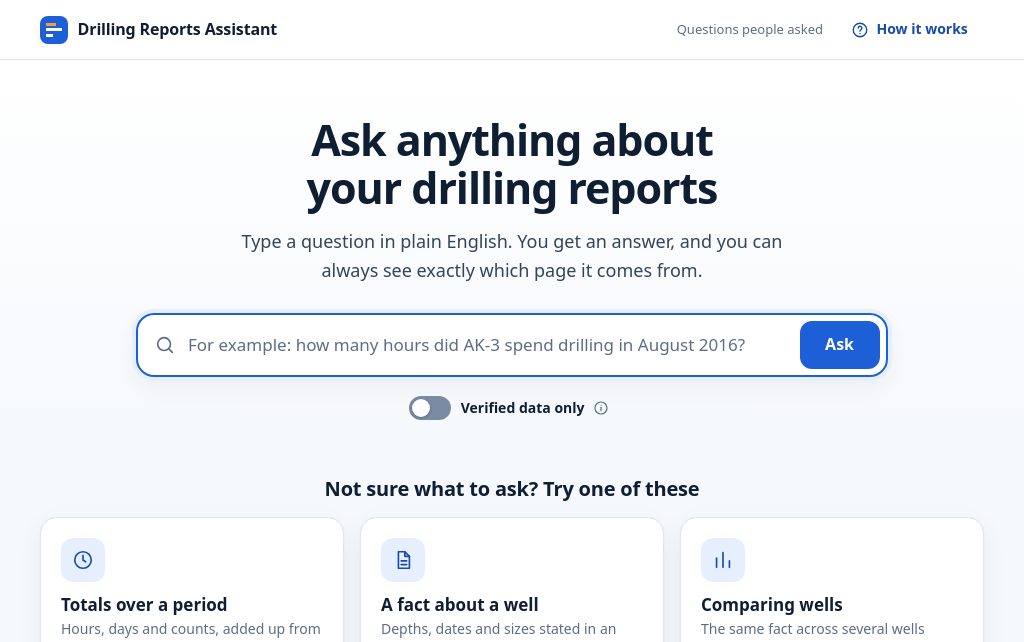
waiting for an answer › can be stopped: the question goes back into the box, and a late answer is not shown
Type "How many hours of non-productive time did AK-3 have?" into the field named "Ask about the reports".
click(488, 345); type("How many hours of non-productive time did AK-3 have?")  # box [184, 321, 792, 369]
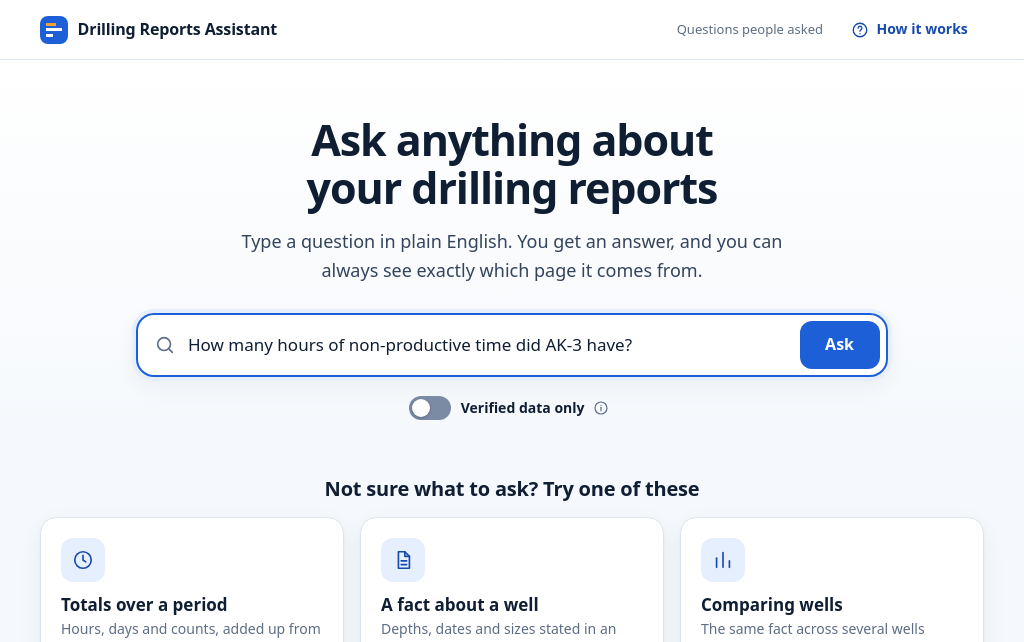
Click the button "Ask".
click(840, 345)  # box [800, 321, 880, 369]
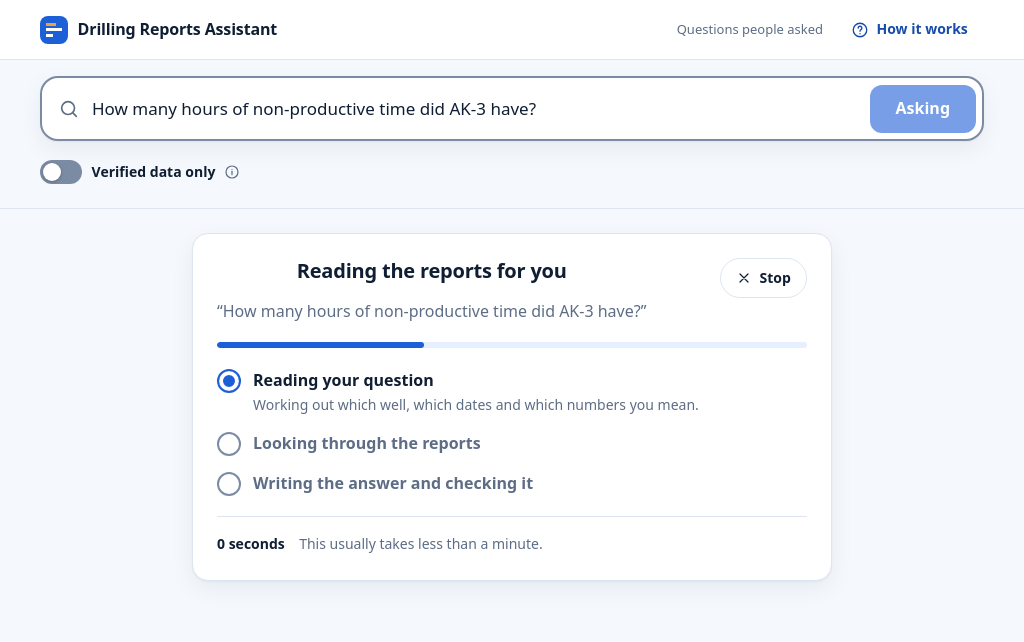
Click the button "Stop".
click(764, 278)  # box [720, 258, 807, 298]
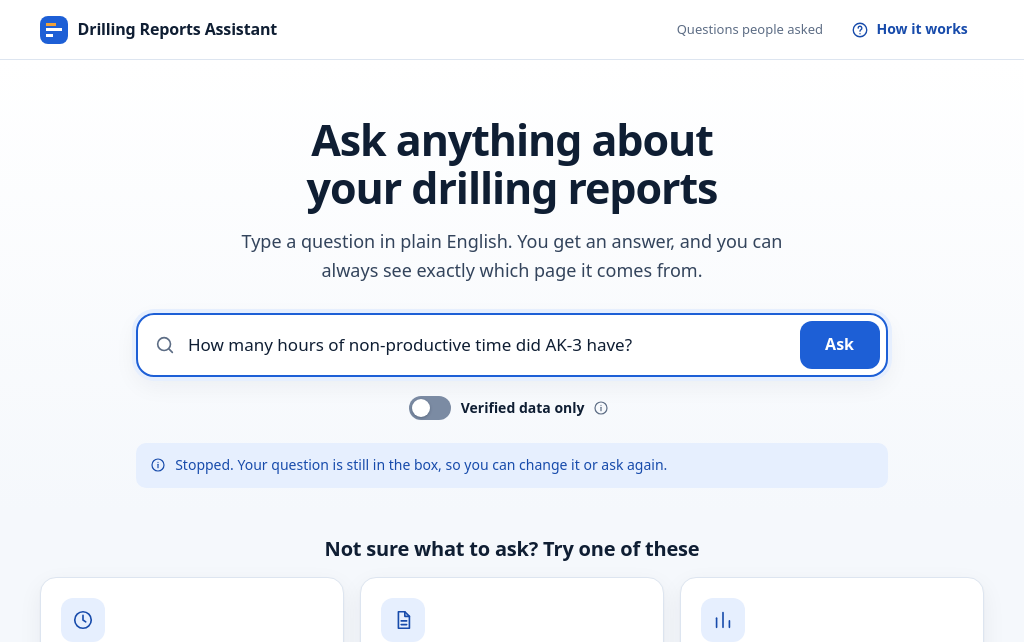
Now the text "Stopped. Your question is still in the box, so you can change it or ask again." is shown, box [136, 443, 888, 488]
Now the button "Ask" is enabled, box [800, 321, 880, 369]
